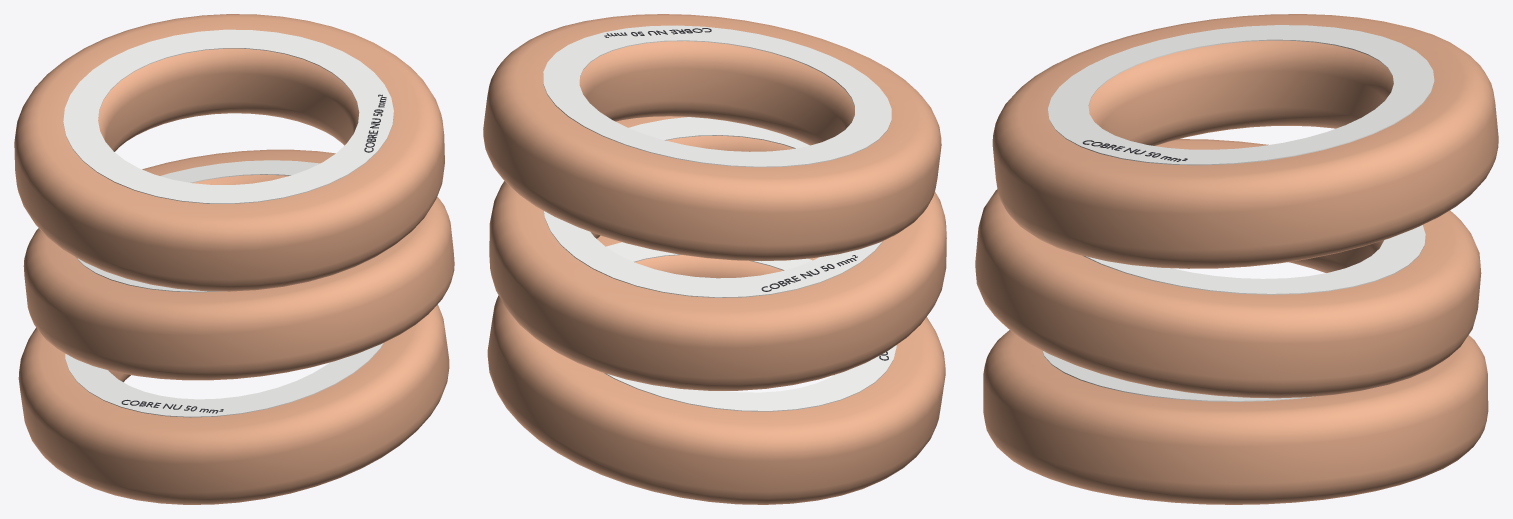
Rendered from ELE-ATR-002_anim.glb.
3 views of the same model, side by side, from view 1: azimuth 30°, elevation 25°; view 2: azimuth 150°, elevation 25°; view 3: azimuth 270°, elevation 25° (orthographic). The views are drawn at different scales.
Visible parts, largest first — view 1: ELE-ATR-002_anim2, ELE-ATR-002_anim0, ELE-ATR-002_anim1; view 2: ELE-ATR-002_anim2, ELE-ATR-002_anim1, ELE-ATR-002_anim0; view 3: ELE-ATR-002_anim2, ELE-ATR-002_anim1, ELE-ATR-002_anim0.
Boxes of the visible parts, bbox=[...] form: ELE-ATR-002_anim2: bbox=[14, 14, 444, 291]; ELE-ATR-002_anim0: bbox=[18, 304, 449, 504]; ELE-ATR-002_anim1: bbox=[23, 149, 454, 380]; ELE-ATR-002_anim2: bbox=[483, 14, 941, 261]; ELE-ATR-002_anim1: bbox=[489, 116, 946, 390]; ELE-ATR-002_anim0: bbox=[487, 235, 945, 504]; ELE-ATR-002_anim2: bbox=[992, 14, 1498, 268]; ELE-ATR-002_anim1: bbox=[975, 139, 1481, 398]; ELE-ATR-002_anim0: bbox=[983, 330, 1488, 504].
Bounding box in the file's own units: 0.5242 × 0.4466 × 0.5393.
